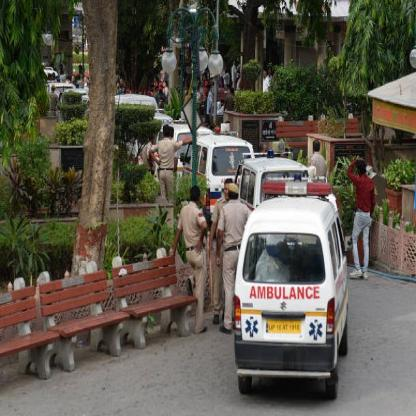priority: (230, 184, 351, 386), (199, 130, 241, 190)
